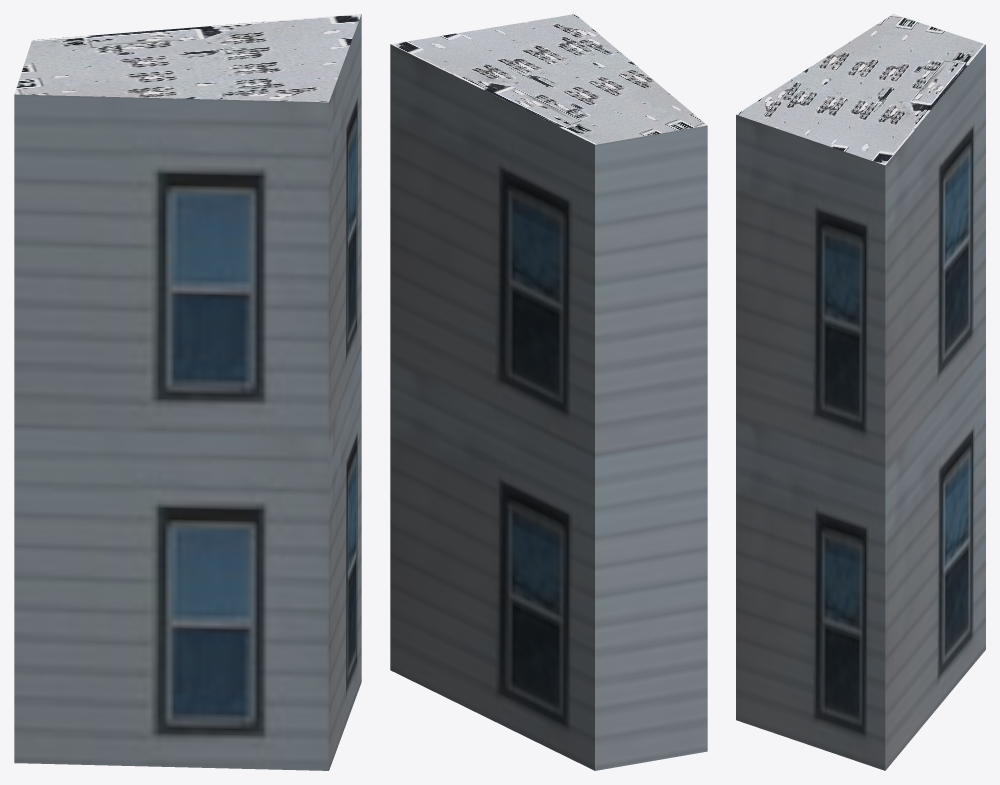
File: ResTex__4545.fbx
The picture shows the model from 3 angles, left to right: view 1: azimuth 30°, elevation 25°; view 2: azimuth 150°, elevation 25°; view 3: azimuth 270°, elevation 25°; orthographic projection. The views are drawn at different scales.
Visible parts, largest first — view 1: CityEngineMaterial_18_m, CityEngineMaterial_4_m; view 2: CityEngineMaterial_18_m, CityEngineMaterial_4_m; view 3: CityEngineMaterial_18_m, CityEngineMaterial_4_m.
Part boxes in pixels (x1,y1,x2,y2): CityEngineMaterial_18_m: (14,14,361,770); CityEngineMaterial_4_m: (14,14,361,102); CityEngineMaterial_18_m: (390,44,707,770); CityEngineMaterial_4_m: (391,14,707,144); CityEngineMaterial_18_m: (736,45,985,770); CityEngineMaterial_4_m: (736,14,985,165).
Size of the model in its own units: 3.22 by 6 by 2.24.
2 materials, 2 textured.
